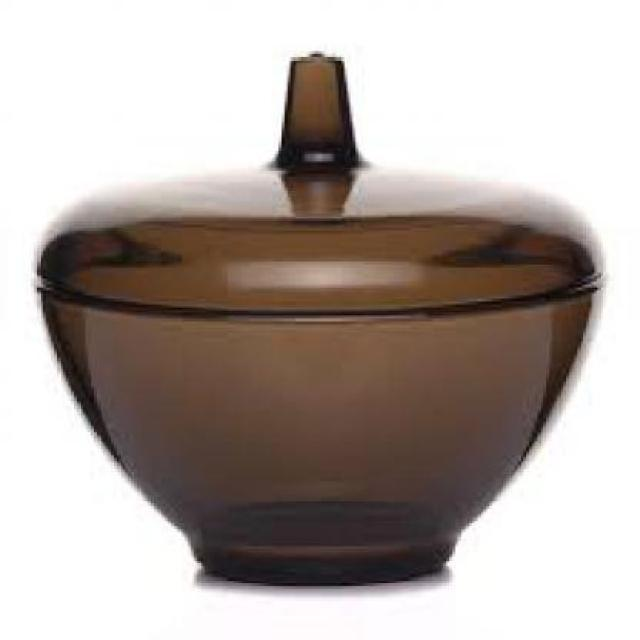kaca: (28, 51, 603, 586), (37, 278, 603, 590), (31, 52, 603, 311)
